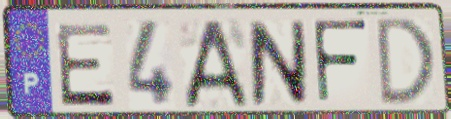4: (125, 16, 177, 113)
A: (181, 17, 252, 111)
D: (375, 16, 438, 110)
E: (53, 21, 117, 109)
F: (309, 17, 371, 108)
N: (246, 18, 310, 108)
